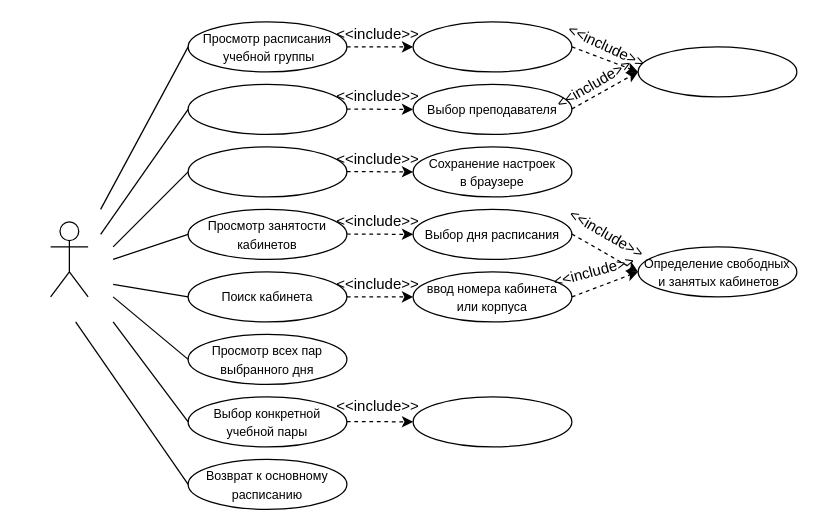
This 819x531 diagram has some shape labels left out. Here are the shapes that lost their labels. From the top down, the centre of each, then its label:
At (x=492, y=46): "Выбор отделения, направления и группы".
At (x=717, y=71): "загрузка и парсинг HTML-расписания".
At (x=267, y=108): "Просмотр расписания преподавателей".
At (x=267, y=171): "Редактирование настроек отображения".
At (x=68, y=259): "Пользователь".
At (x=492, y=421): "Выбор номера пары".
